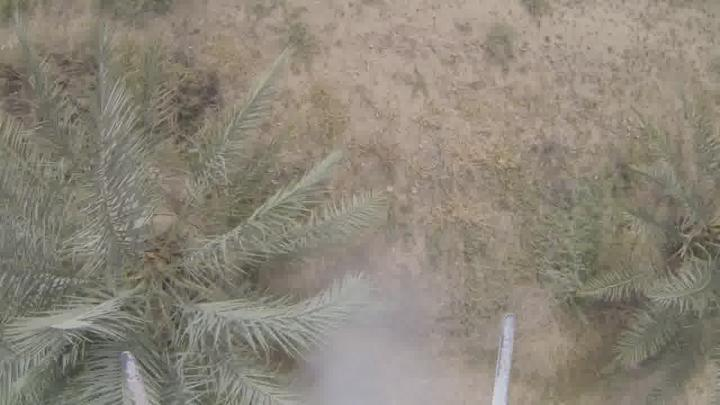Date-Palm-Crown: (0, 126, 292, 404), (630, 138, 720, 344)
